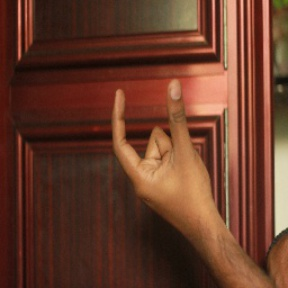U: (100, 79, 214, 215)
